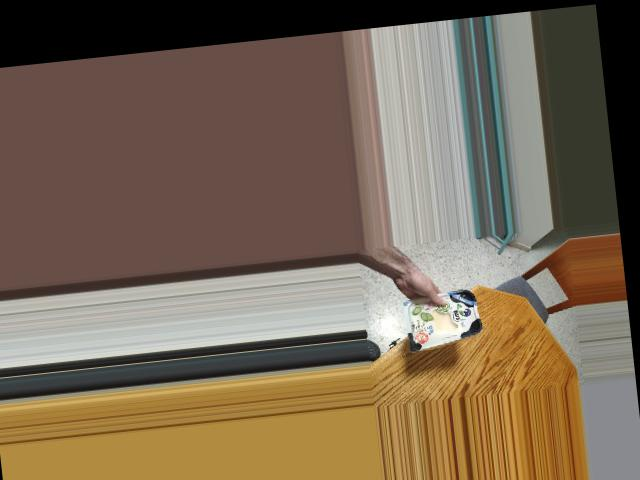cheese: (401, 278, 481, 353)
